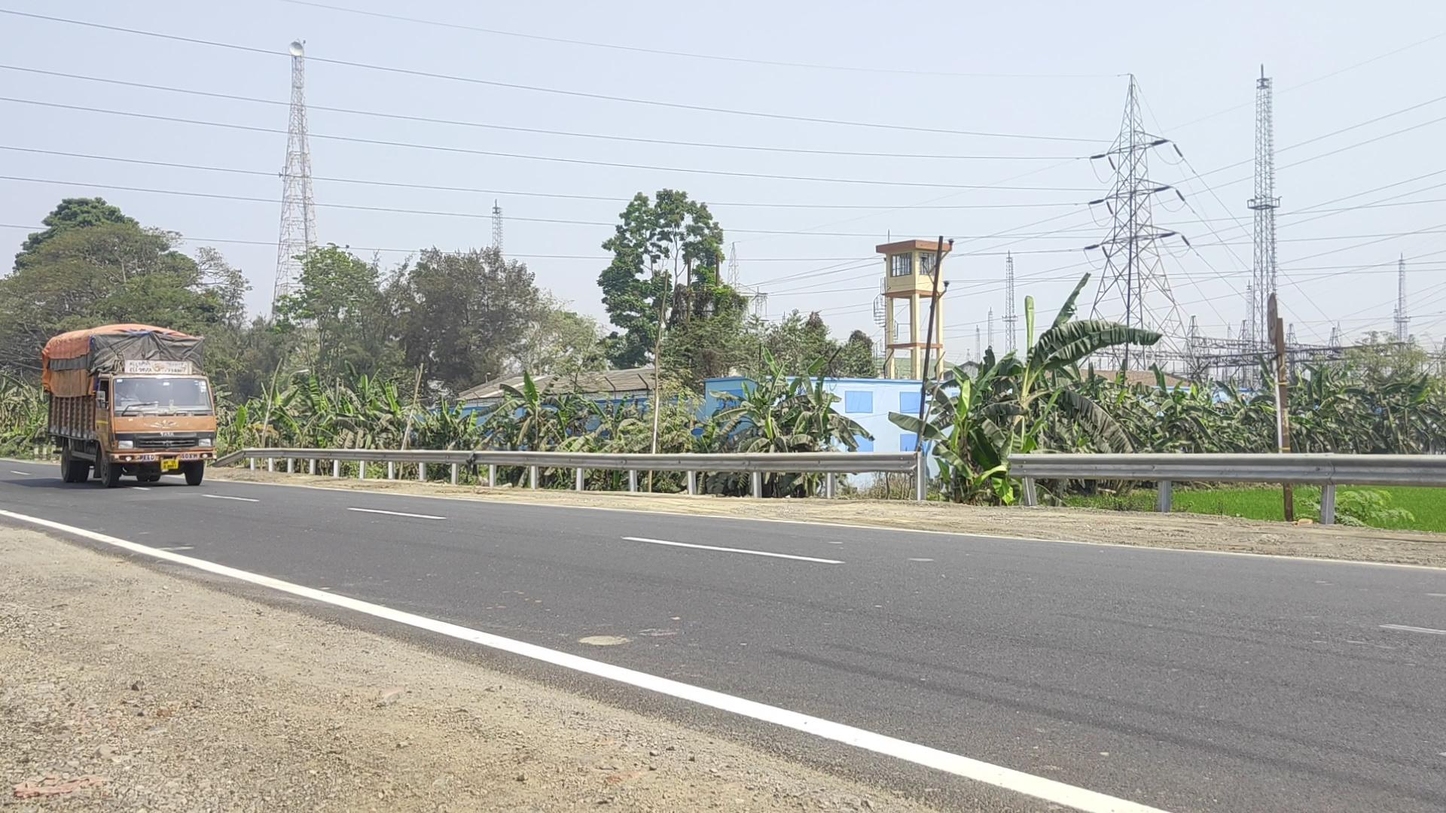truck: (41, 323, 217, 489)
